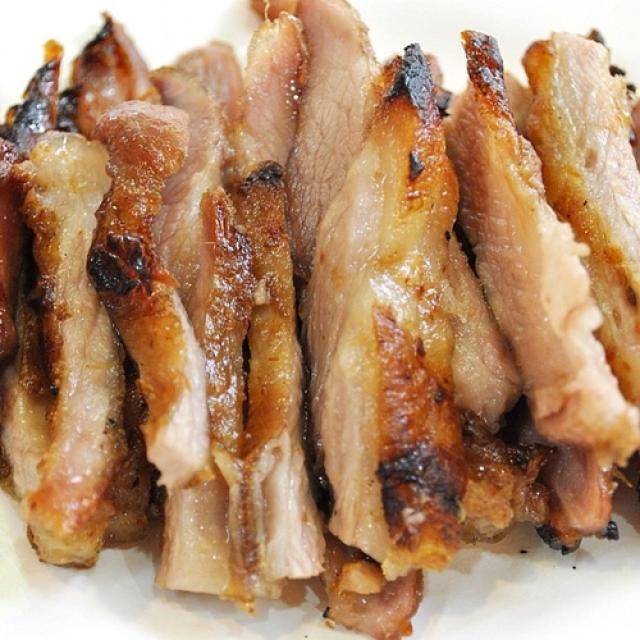猪肉菜式: (15, 23, 603, 604)
